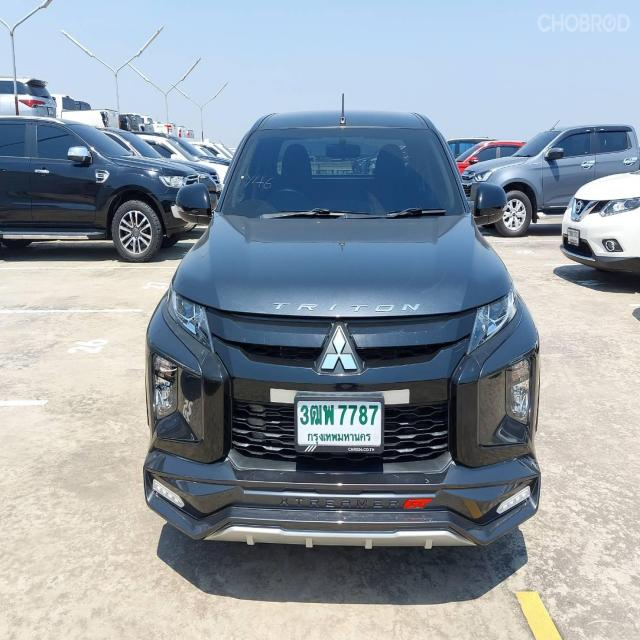license_plate: (295, 389, 384, 452), (566, 224, 582, 249)
